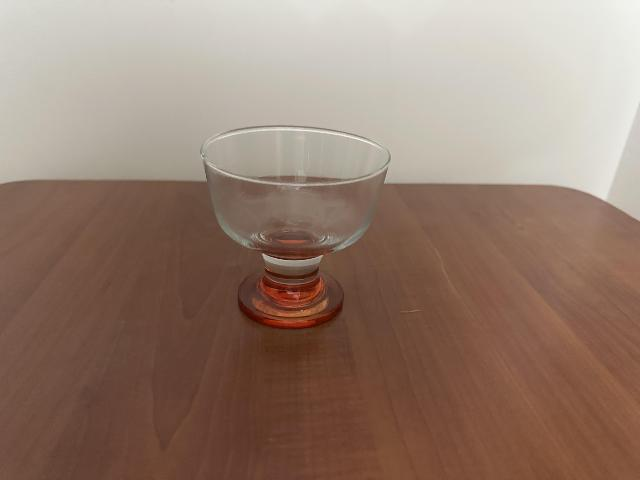Cam: (200, 123, 392, 331)
